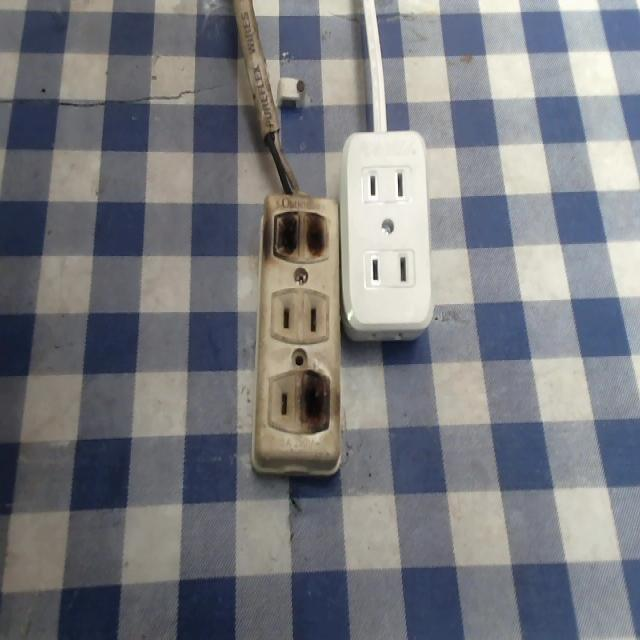-: (266, 209, 333, 263), (296, 367, 333, 436)
